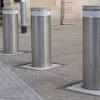Animal: (78, 6, 100, 88), (30, 7, 49, 66), (1, 4, 21, 54)
